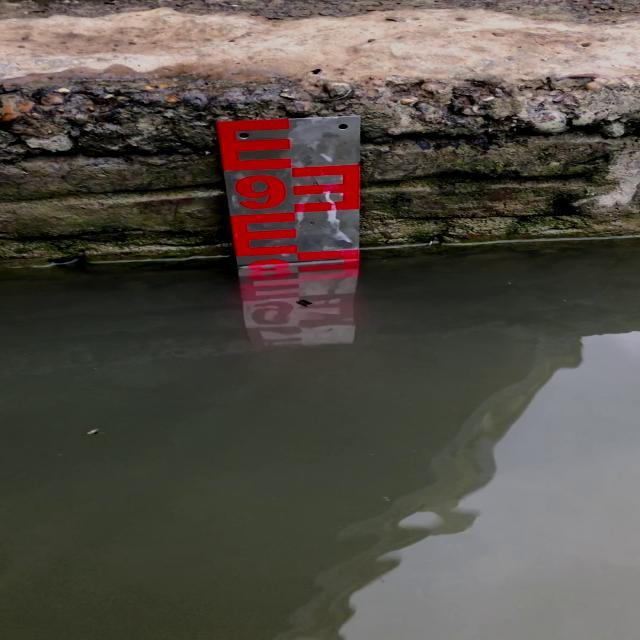ruler: (203, 103, 371, 288)
value: (222, 165, 293, 217)
